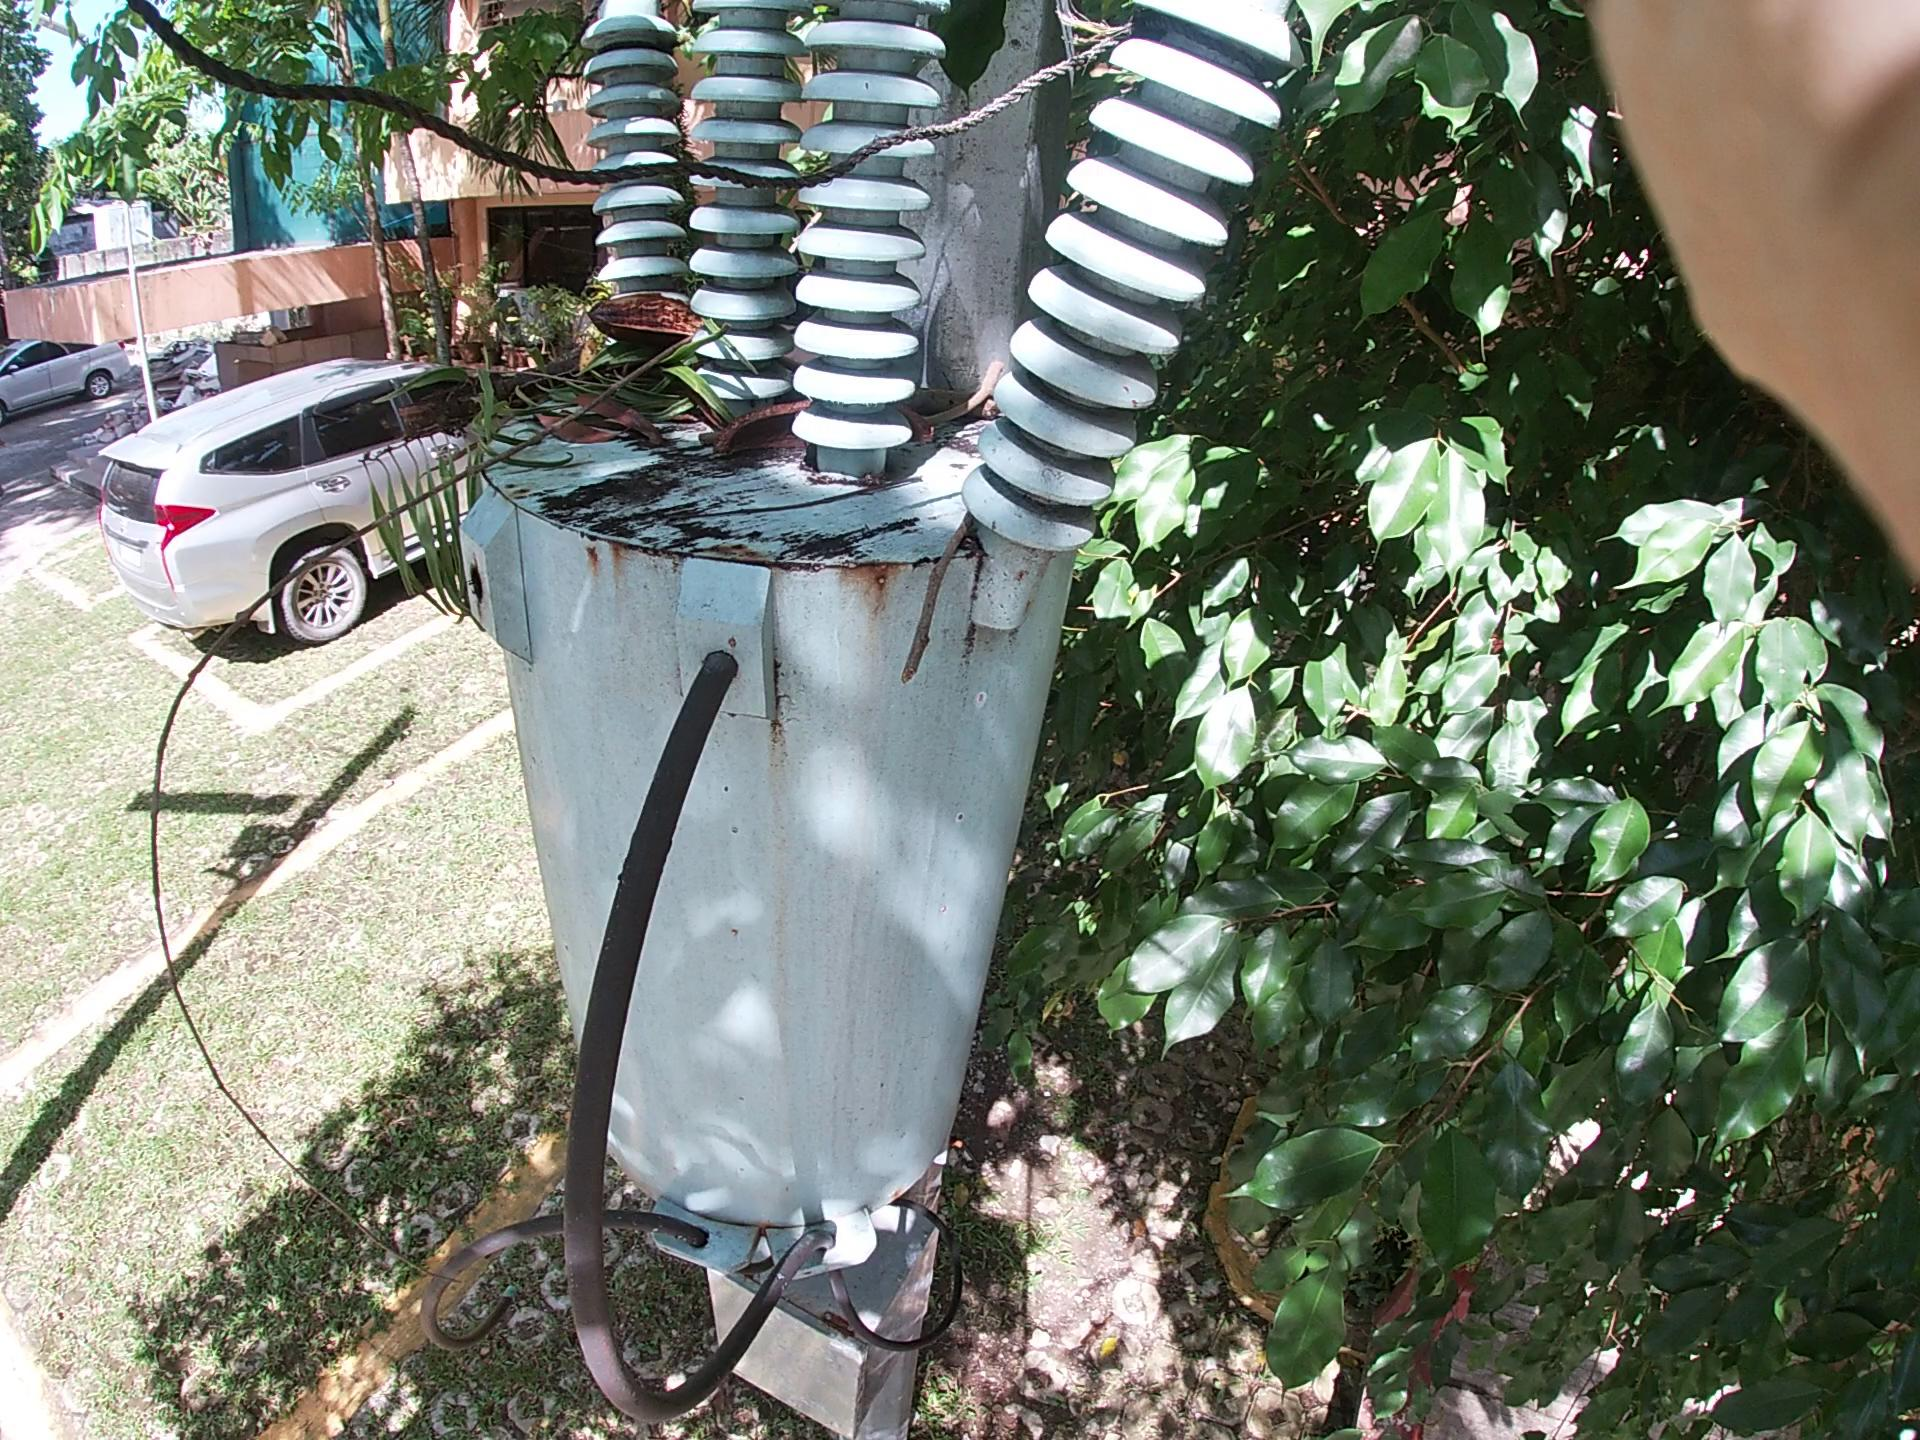branch with leaves: (432, 203, 821, 495)
leaf: (500, 351, 664, 457)
mahogany fruit: (701, 357, 989, 484), (568, 266, 723, 371)
tree branch: (109, 172, 558, 1328), (874, 395, 1033, 666)
